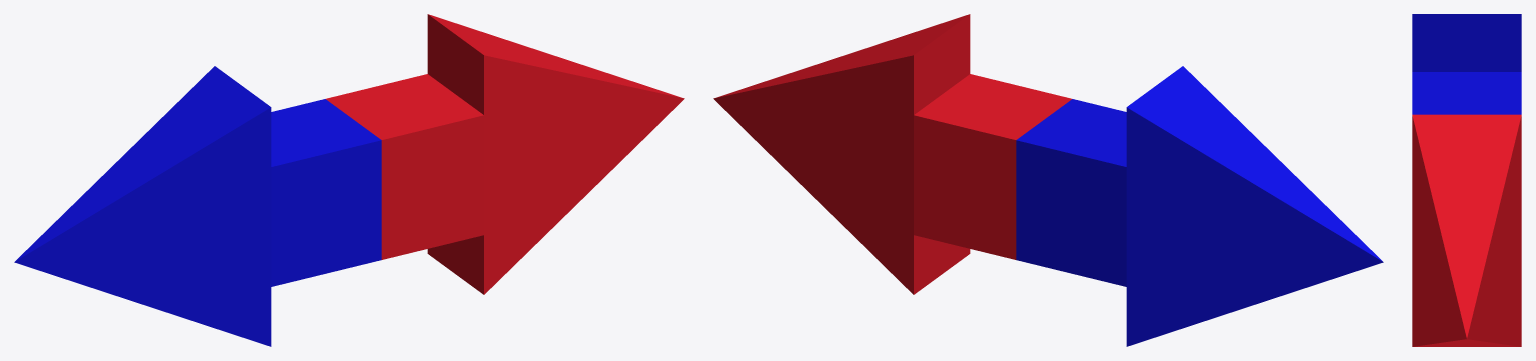
The picture shows the model from 3 angles, left to right: view 1: azimuth 30°, elevation 25°; view 2: azimuth 150°, elevation 25°; view 3: azimuth 270°, elevation 25°; orthographic projection. The views are drawn at different scales.
Visible parts, largest first — view 1: Cube, Cube.001; view 2: Cube, Cube.001; view 3: Cube.001, Cube.
Boxes of the visible parts, box(x1,y1,x2,y2) form: Cube: box(14, 66, 381, 346); Cube.001: box(326, 14, 684, 294); Cube: box(1016, 66, 1383, 346); Cube.001: box(713, 14, 1071, 294); Cube.001: box(1412, 114, 1521, 346); Cube: box(1412, 14, 1521, 114).
Size of the model in its own units: 586 by 200 by 85.37.
